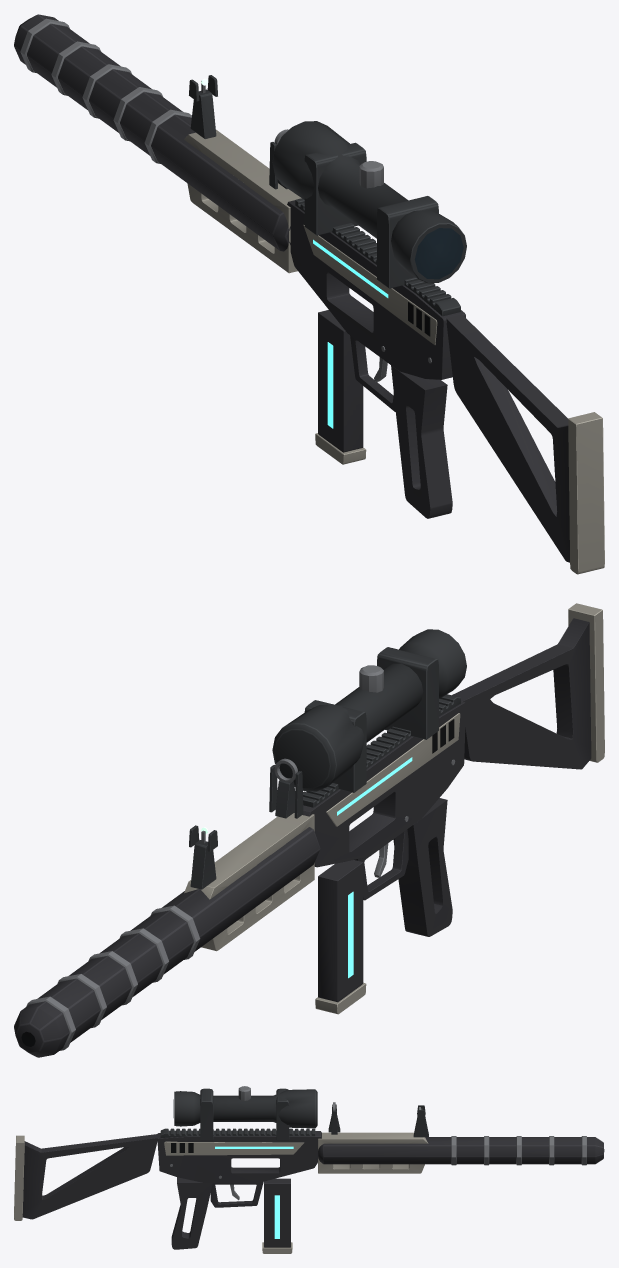
The model's file is e_silent.glb.
3 views of the same model, one above another, from view 1: azimuth 30°, elevation 25°; view 2: azimuth 150°, elevation 25°; view 3: azimuth 270°, elevation 25° (orthographic). The views are drawn at different scales.
Parts seen in each view (by area): view 1: Body, ThirdPersonOnly, IronSight, Cell; view 2: Body, IronSight, ThirdPersonOnly, Cell; view 3: Body, ThirdPersonOnly, IronSight, Cell.
Part boxes in pixels (bbox=[...]): Body: bbox=[14, 14, 465, 518]; ThirdPersonOnly: bbox=[446, 314, 604, 574]; IronSight: bbox=[189, 75, 466, 288]; Cell: bbox=[315, 310, 366, 464]; Body: bbox=[14, 694, 465, 1057]; IronSight: bbox=[189, 629, 466, 889]; ThirdPersonOnly: bbox=[452, 603, 604, 769]; Cell: bbox=[315, 860, 366, 1014]; Body: bbox=[157, 1128, 604, 1249]; ThirdPersonOnly: bbox=[14, 1134, 158, 1220]; IronSight: bbox=[173, 1086, 428, 1140]; Cell: bbox=[262, 1178, 292, 1253].
Size of the model in its own units: 0.072 by 0.331 by 1.09.
